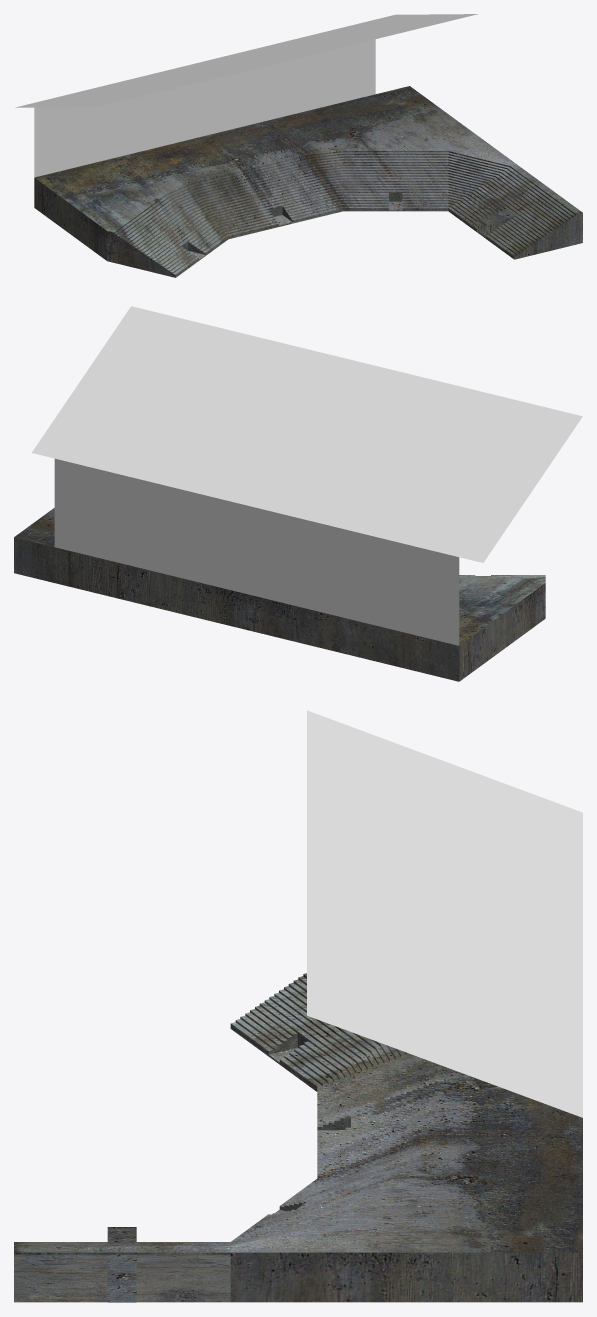
File: BigStair_final.fbx
3 renders of one model, top to bottom at view 1: azimuth 30°, elevation 25°; view 2: azimuth 150°, elevation 25°; view 3: azimuth 270°, elevation 25°, orthographic. The views are drawn at different scales.
Visible parts, largest first — view 1: BigStair_original, Wall, Celinig, BigStair_door; view 2: Celinig, Wall, BigStair_original; view 3: Celinig, BigStair_original, BigStair_door.
Part boxes in pixels (x1,y1,x2,y2): BigStair_original: [34, 86, 582, 277]; Wall: [34, 39, 375, 177]; Celinig: [15, 14, 477, 107]; BigStair_door: [181, 192, 402, 254]; Celinig: [32, 306, 582, 562]; Wall: [54, 458, 459, 645]; BigStair_original: [14, 508, 545, 681]; Celinig: [307, 710, 582, 1117]; BigStair_original: [14, 973, 582, 1302]; BigStair_door: [14, 1034, 350, 1302].
Bounding box in the file's own units: 16643 × 6715 × 12600.
